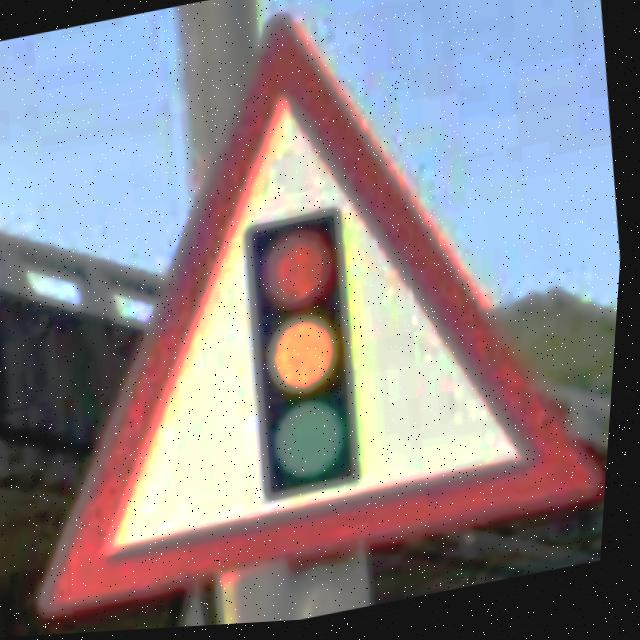signalahead: (47, 21, 612, 621)
